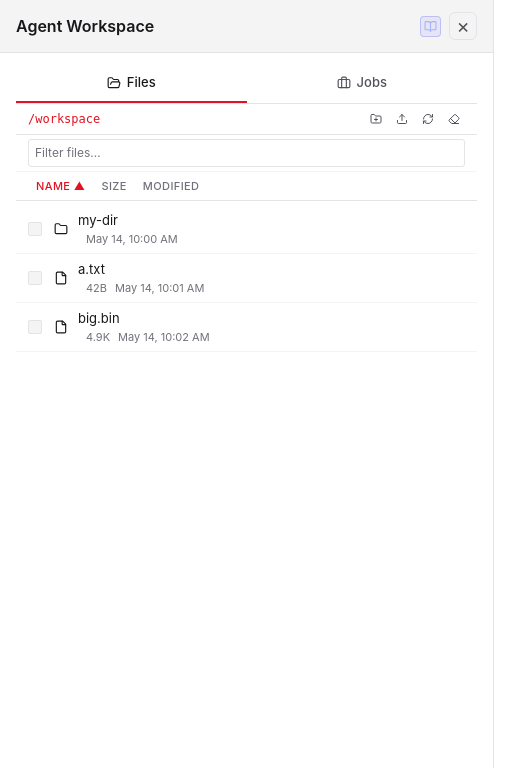
Test case: FileSystemDrawer: upload › 409 response opens the overwrite confirm modal
The width and height of the screenshot is (511, 768).
Expected: the text "a.txt" is shown, [78,261,105,277]
Click the button titled "Upload file(s) to current directory" at (402, 118), box [391,110,413,128]
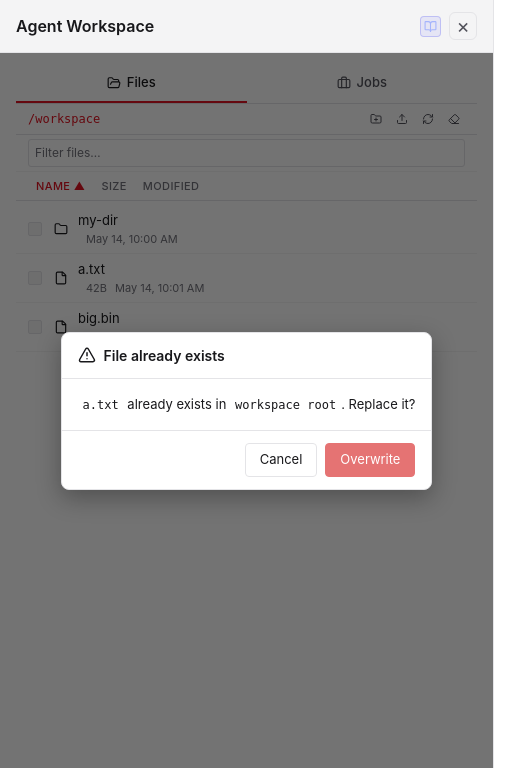
Result: the text "File already exists" is shown at [104,344,225,366]
